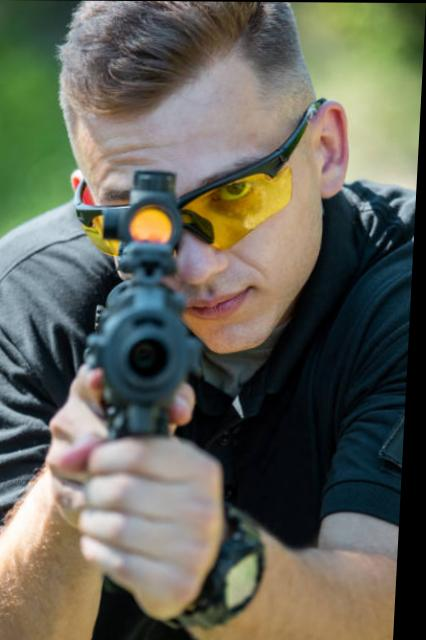other: (0, 8, 424, 629)
